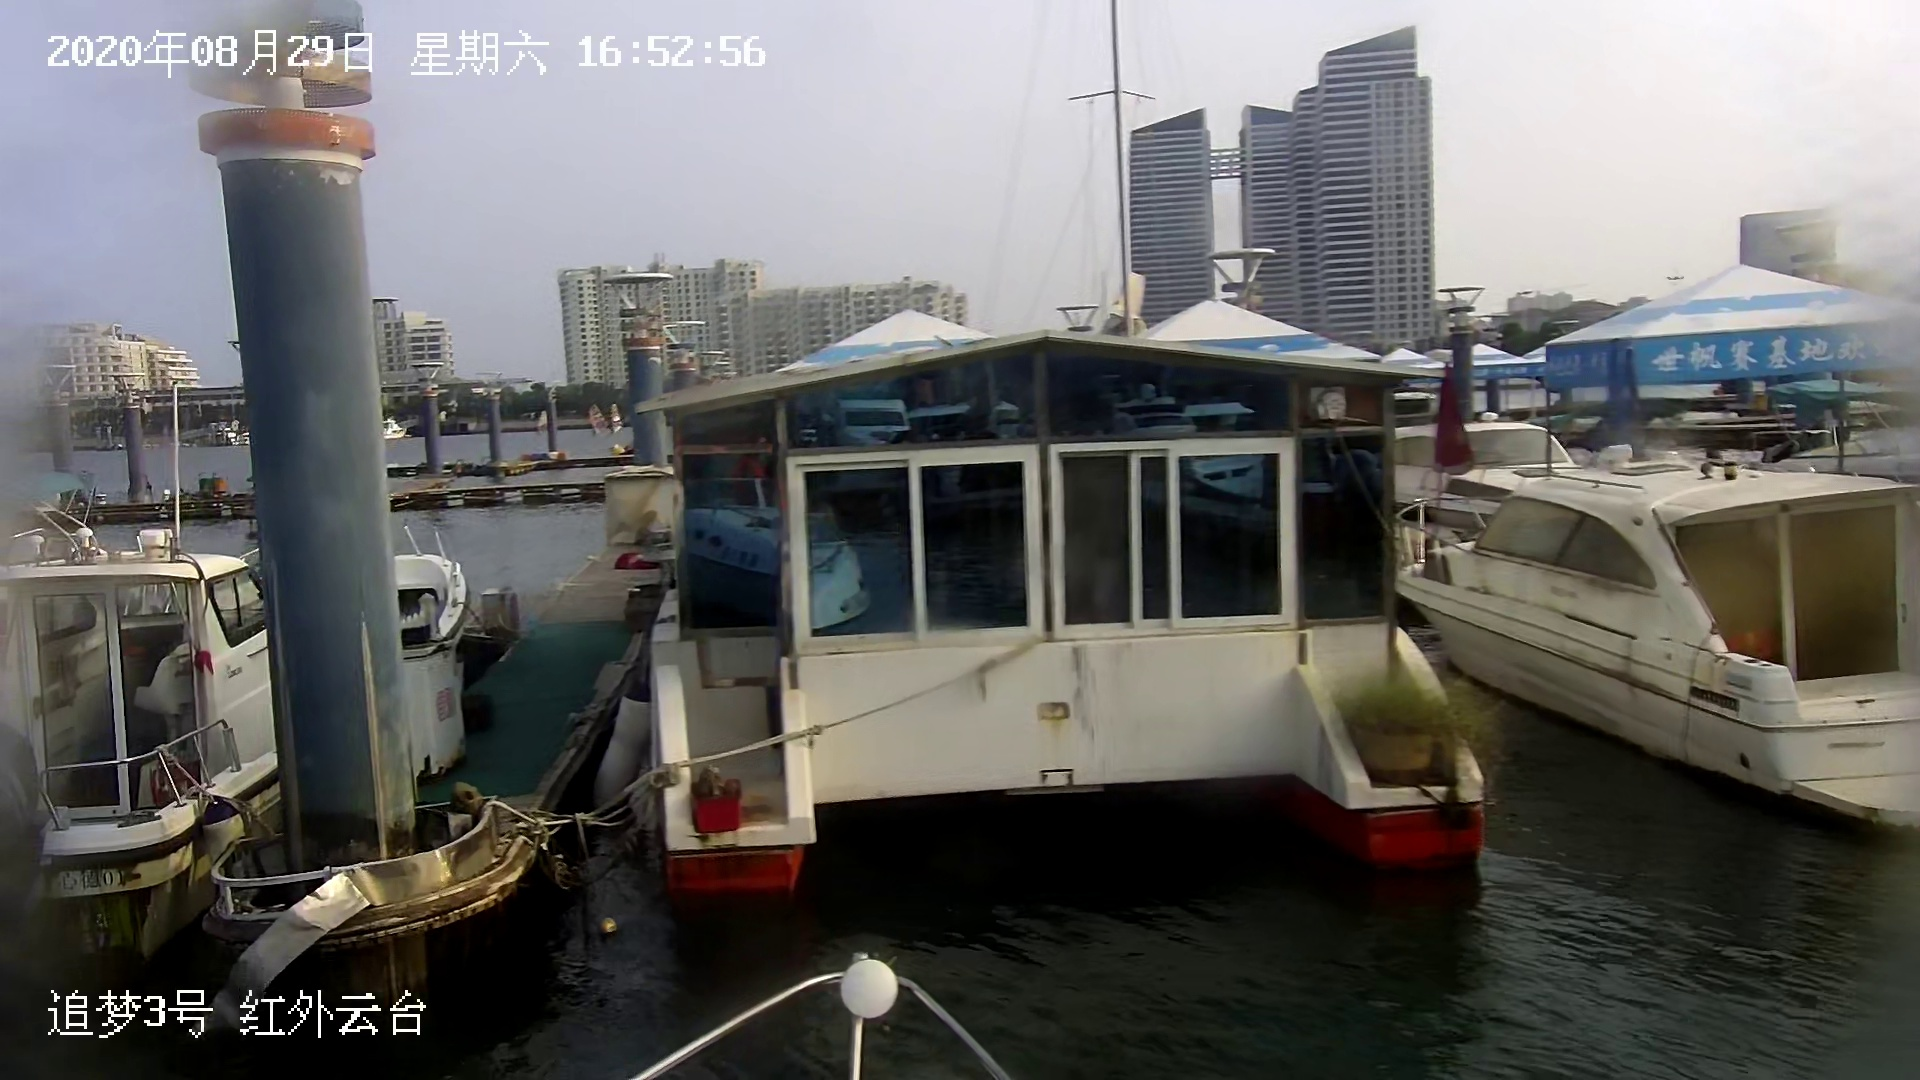barrier: (1410, 456, 1919, 833), (3, 526, 485, 920)
coast: (3, 5, 1917, 880)
this: (624, 944, 1011, 1079)
